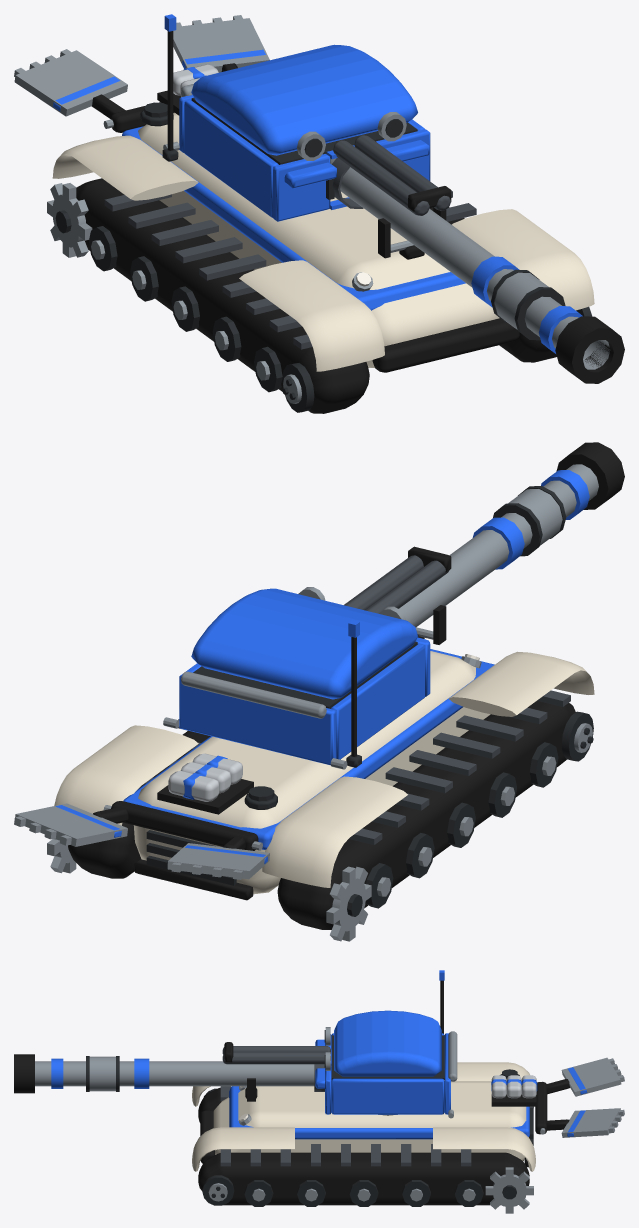
Rendered from long_range_artillery.glb.
The picture shows the model from 3 angles, top to bottom: view 1: azimuth 30°, elevation 25°; view 2: azimuth 150°, elevation 25°; view 3: azimuth 270°, elevation 25°; orthographic projection. The views are drawn at different scales.
Parts seen in each view (by area): view 1: hull__M_CreamPlastic, cradle_head__M_Team, gear__M_Licorice, barrel__M_SpringSteel, tread_r__M_SmokePlastic, hull__M_Licorice, hull__M_Team, cradle_head__M_SmokePlastic, gear__M_Dark, spade_r__M_SpringSteel, spade_l__M_SpringSteel, barrel__M_Licorice (+11 smaller); view 2: hull__M_CreamPlastic, cradle_head__M_Team, gear__M_Licorice, barrel__M_SpringSteel, hull__M_Licorice, tread_r__M_SmokePlastic, hull__M_Team, gear__M_Dark, cradle_head__M_SmokePlastic, spade_l__M_SpringSteel, cradle_head__M_SpringSteel, spade_r__M_SpringSteel (+11 smaller); view 3: hull__M_CreamPlastic, cradle_head__M_Team, gear__M_Licorice, barrel__M_SpringSteel, gear__M_Dark, hull__M_Team, cradle_head__M_SmokePlastic, tread_l__M_SmokePlastic, hull__M_Licorice, spade_r__M_SpringSteel, sprocket_l__M_SpringSteel, spade_l__M_SpringSteel (+7 smaller).
Boxes of the visible parts, x1=… form: hull__M_CreamPlastic: x1=52, y1=112, x2=594, y2=371; cradle_head__M_Team: x1=179, y1=44, x2=430, y2=221; gear__M_Licorice: x1=76, y1=178, x2=576, y2=413; barrel__M_SpringSteel: x1=330, y1=158, x2=610, y2=369; tread_r__M_SmokePlastic: x1=104, y1=194, x2=312, y2=349; hull__M_Licorice: x1=110, y1=90, x2=519, y2=372; hull__M_Team: x1=122, y1=67, x2=465, y2=310; cradle_head__M_SmokePlastic: x1=332, y1=135, x2=450, y2=215; gear__M_Dark: x1=89, y1=226, x2=282, y2=392; spade_r__M_SpringSteel: x1=14, y1=49, x2=127, y2=116; spade_l__M_SpringSteel: x1=173, y1=15, x2=269, y2=72; barrel__M_Licorice: x1=555, y1=316, x2=624, y2=383; hull__M_CreamPlastic: x1=54, y1=651, x2=594, y2=894; cradle_head__M_Team: x1=179, y1=588, x2=430, y2=765; gear__M_Licorice: x1=68, y1=701, x2=575, y2=929; barrel__M_SpringSteel: x1=399, y1=464, x2=598, y2=627; hull__M_Licorice: x1=111, y1=605, x2=446, y2=900; tread_r__M_SmokePlastic: x1=349, y1=690, x2=570, y2=844; hull__M_Team: x1=123, y1=649, x2=494, y2=849; gear__M_Dark: x1=365, y1=742, x2=558, y2=908; cradle_head__M_SmokePlastic: x1=344, y1=555, x2=449, y2=613; spade_l__M_SpringSteel: x1=14, y1=803, x2=127, y2=846; cradle_head__M_SpringSteel: x1=181, y1=587, x2=405, y2=718; spade_r__M_SpringSteel: x1=167, y1=843, x2=269, y2=879; hull__M_CreamPlastic: x1=192, y1=1062, x2=535, y2=1171; cradle_head__M_Team: x1=315, y1=1010, x2=450, y2=1114; gear__M_Licorice: x1=198, y1=1087, x2=529, y2=1205; barrel__M_SpringSteel: x1=35, y1=1056, x2=314, y2=1091; gear__M_Dark: x1=244, y1=1180, x2=483, y2=1206; hull__M_Team: x1=229, y1=1079, x2=537, y2=1139; cradle_head__M_SmokePlastic: x1=222, y1=1046, x2=330, y2=1091; tread_l__M_SmokePlastic: x1=220, y1=1144, x2=471, y2=1166; hull__M_Licorice: x1=200, y1=1078, x2=547, y2=1167; spade_r__M_SpringSteel: x1=561, y1=1057, x2=624, y2=1096; sprocket_l__M_SpringSteel: x1=485, y1=1167, x2=533, y2=1213; spade_l__M_SpringSteel: x1=561, y1=1108, x2=624, y2=1137.
Size of the model in its own units: 0.736 by 0.6208 by 2.03.
